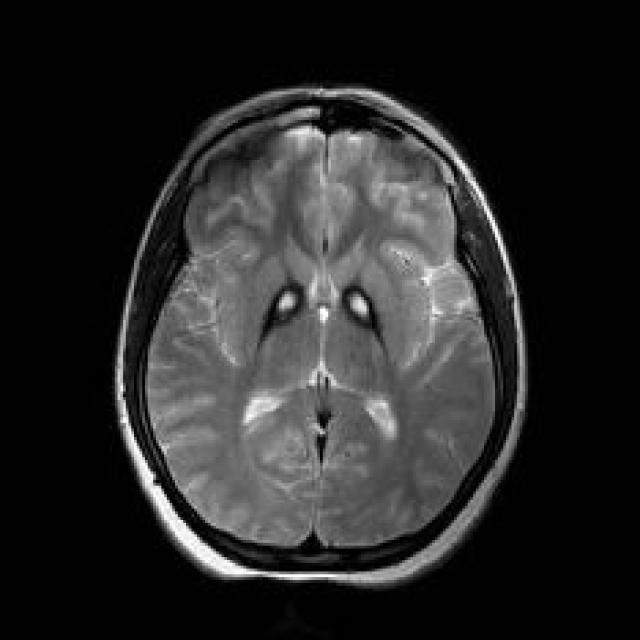No_Tumor: (116, 88, 523, 580)
